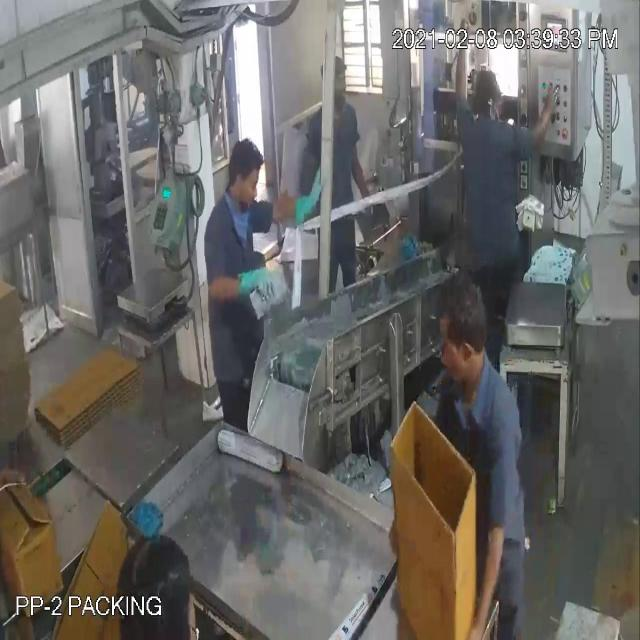gloves: (266, 153, 326, 229), (206, 253, 278, 310)
no-gloves: (452, 480, 510, 640)
